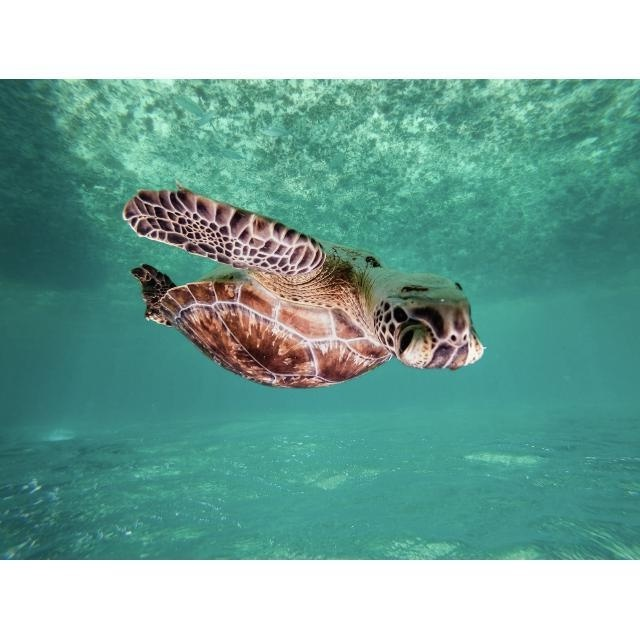turtle: (123, 176, 485, 389)
